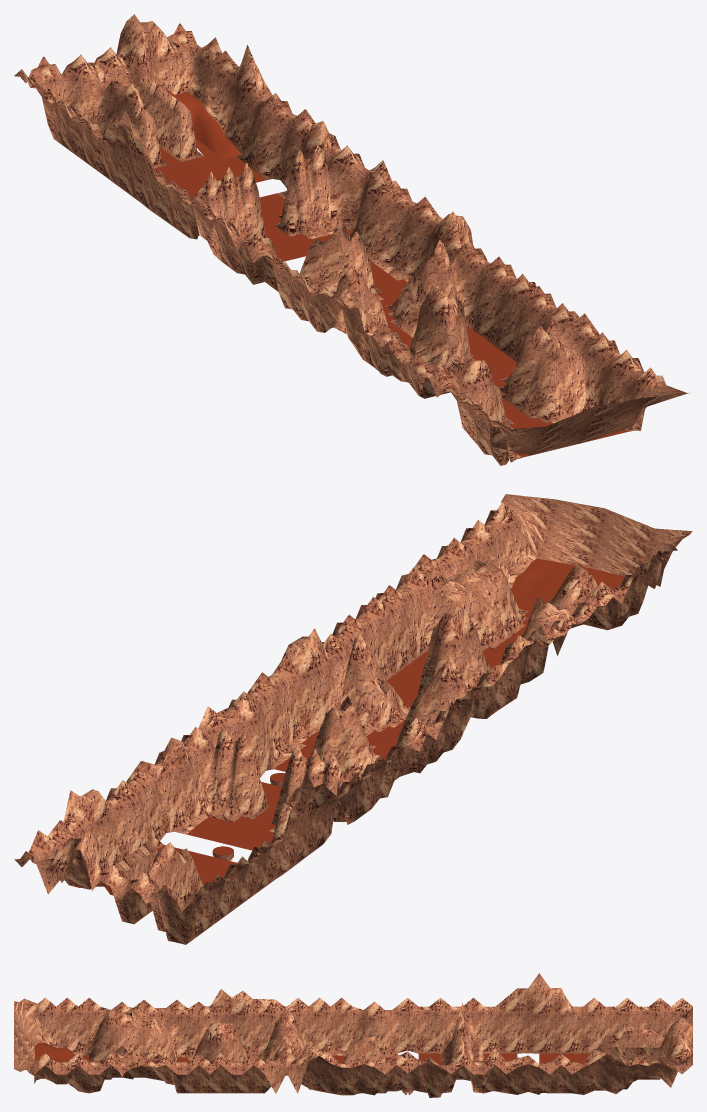
The model's file is escenario_i_plataformas.fbx.
3 views of the same model, one above another, from view 1: azimuth 30°, elevation 25°; view 2: azimuth 150°, elevation 25°; view 3: azimuth 270°, elevation 25° (orthographic). The views are drawn at different scales.
Parts seen in each view (by area): view 1: elevacionesMontañas, Plane002, Plane003, plat_final; view 2: elevacionesMontañas, Plane003, Plane002, terreno1; view 3: elevacionesMontañas, Plane003, Plane002, terreno1.
Boxes of the visible parts, x1=… form: elevacionesMontañas: x1=14, y1=14, x2=665, y2=465; Plane002: x1=155, y1=138, x2=552, y2=428; Plane003: x1=489, y1=384, x2=688, y2=455; plat_final: x1=166, y1=90, x2=241, y2=159; elevacionesMontañas: x1=14, y1=502, x2=677, y2=944; Plane003: x1=501, y1=494, x2=692, y2=588; Plane002: x1=157, y1=611, x2=531, y2=886; terreno1: x1=511, y1=558, x2=624, y2=630; elevacionesMontañas: x1=34, y1=973, x2=692, y2=1097; Plane003: x1=14, y1=998, x2=42, y2=1075; Plane002: x1=177, y1=1053, x2=590, y2=1093; terreno1: x1=35, y1=1043, x2=89, y2=1061.
Bounding box in the file's own units: 217 × 130 × 993.
